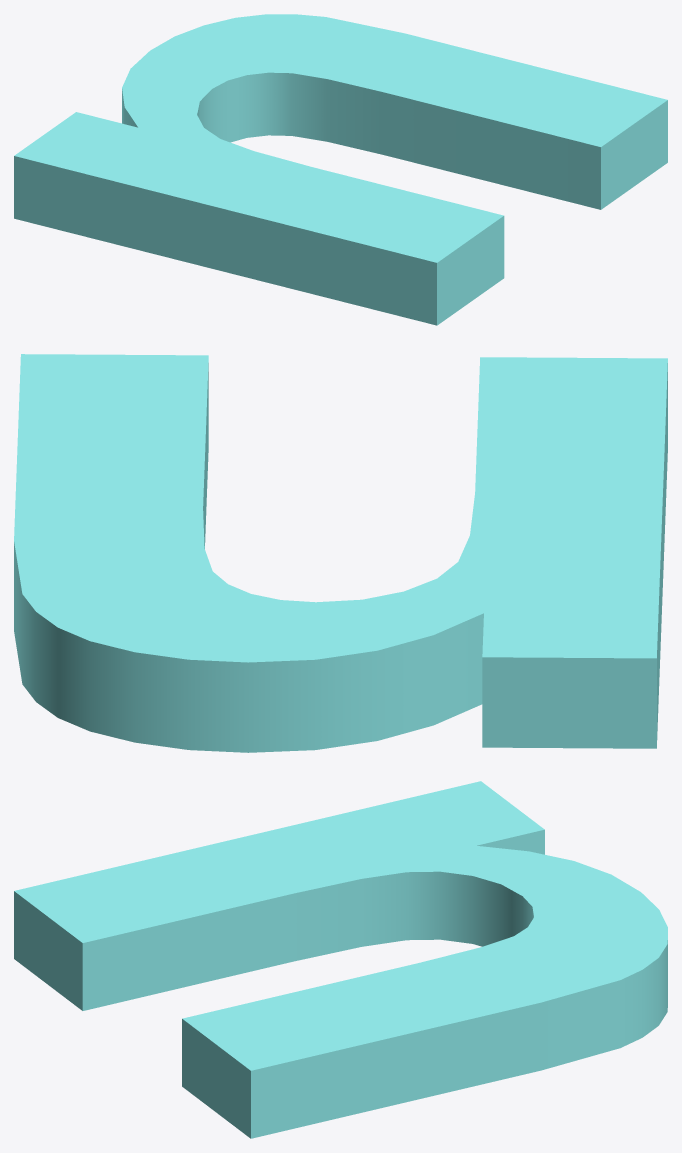
The model's file is original-11.obj.
3 views of the same model, one above another, from view 1: azimuth 30°, elevation 25°; view 2: azimuth 150°, elevation 25°; view 3: azimuth 270°, elevation 25° (orthographic). The views are drawn at different scales.
Parts seen in each view (by area): view 1: mesh14/mesh14-geometry#mesh14-geometry; view 2: mesh14/mesh14-geometry#mesh14-geometry; view 3: mesh14/mesh14-geometry#mesh14-geometry.
Part boxes in pixels (bbox=[...]): mesh14/mesh14-geometry#mesh14-geometry: bbox=[14, 14, 667, 325]; mesh14/mesh14-geometry#mesh14-geometry: bbox=[14, 354, 667, 752]; mesh14/mesh14-geometry#mesh14-geometry: bbox=[14, 781, 667, 1138].
Bounding box in the file's own units: 0.1186 × 0.013 × 0.1131.
